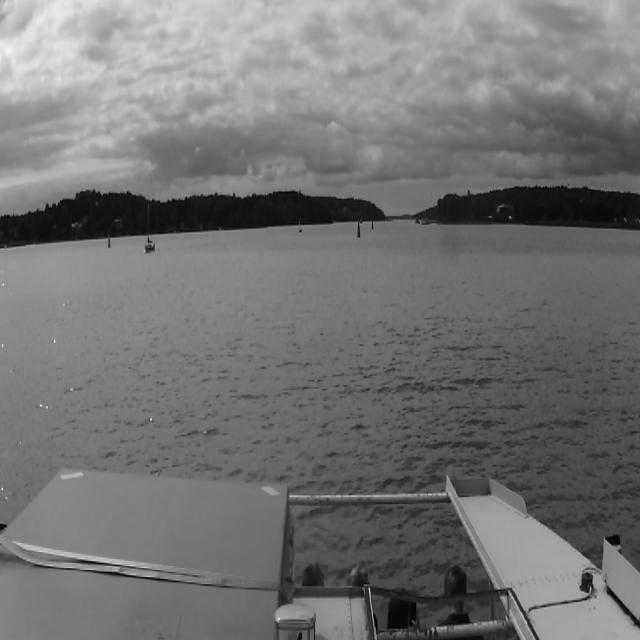buoy: (356, 220, 361, 238), (107, 234, 111, 248), (371, 220, 374, 230)
ship: (144, 190, 156, 253), (298, 219, 302, 233), (359, 220, 362, 226)
